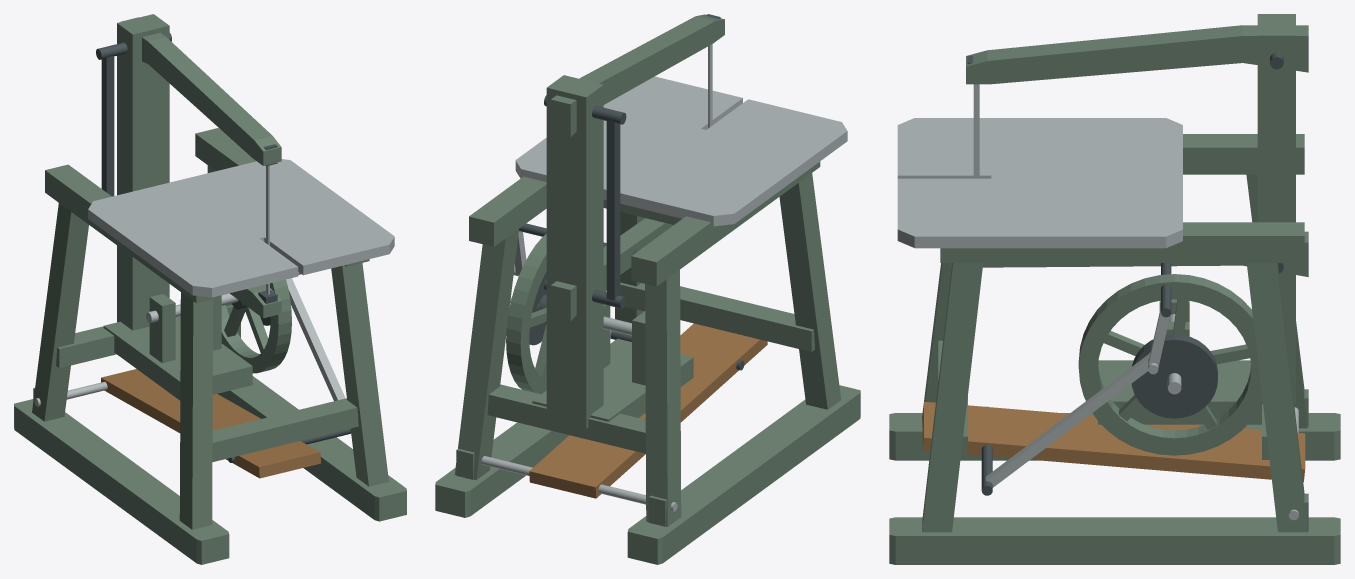
3 renders of one model, left to right at view 1: azimuth 30°, elevation 25°; view 2: azimuth 150°, elevation 25°; view 3: azimuth 270°, elevation 25°, orthographic. The views are drawn at different scales.
Parts seen in each view (by area): view 1: WholeFrontSlottedWorkTable, WholeRearArmBearingStandard, LeftWholeGroundSkid, LeftFrontWholeSplayedLeg, RightFrontWholeSplayedLeg, LeftRearWholeSplayedLeg, WholeLongInclinedFootTreadle, UpperWholeLongTaperedSawArm, RightWholeGroundSkid, FrontWholeLowCrossTie, WholeLowCentralDriveBed, LeftWholeUpperSideRail (+8 smaller); view 2: WholeFrontSlottedWorkTable, WholeRearArmBearingStandard, LeftWholeGroundSkid, WholeLongInclinedFootTreadle, LeftRearWholeSplayedLeg, LeftFrontWholeSplayedLeg, RightRearWholeSplayedLeg, UpperWholeLongTaperedSawArm, FrontWholeLowCrossTie, RightWholeGroundSkid, LeftWholeUpperSideRail, RearWholeLowCrossTie (+11 smaller); view 3: WholeFrontSlottedWorkTable, RightWholeGroundSkid, WholeLongInclinedFootTreadle, UpperWholeLongTaperedSawArm, WholeOpenFlywheelRim, WholeRearArmBearingStandard, RightWholeUpperSideRail, RightFrontWholeSplayedLeg, RightRearWholeSplayedLeg, WholeSideCrankDisk, LeftWholeGroundSkid, LeftWholeUpperSideRail (+7 smaller).
Part boxes in pixels (bbox=[...]): WholeFrontSlottedWorkTable: bbox=[88, 159, 394, 297]; WholeRearArmBearingStandard: bbox=[117, 14, 169, 330]; LeftWholeGroundSkid: bbox=[14, 399, 229, 564]; LeftFrontWholeSplayedLeg: bbox=[179, 292, 213, 529]; RightFrontWholeSplayedLeg: bbox=[331, 263, 388, 486]; LeftRearWholeSplayedLeg: bbox=[32, 203, 88, 421]; WholeLongInclinedFootTreadle: bbox=[101, 369, 320, 478]; UpperWholeLongTaperedSawArm: bbox=[121, 17, 281, 165]; RightWholeGroundSkid: bbox=[217, 376, 406, 521]; FrontWholeLowCrossTie: bbox=[212, 398, 358, 462]; WholeLowCentralDriveBed: bbox=[103, 316, 252, 400]; LeftWholeUpperSideRail: bbox=[45, 164, 219, 303]; WholeFrontSlottedWorkTable: bbox=[515, 76, 847, 226]; WholeRearArmBearingStandard: bbox=[546, 75, 603, 428]; LeftWholeGroundSkid: bbox=[627, 385, 860, 564]; WholeLongInclinedFootTreadle: bbox=[529, 323, 767, 498]; LeftRearWholeSplayedLeg: bbox=[645, 270, 681, 526]; LeftFrontWholeSplayedLeg: bbox=[779, 173, 841, 409]; RightRearWholeSplayedLeg: bbox=[454, 229, 518, 480]; UpperWholeLongTaperedSawArm: bbox=[551, 14, 724, 137]; FrontWholeLowCrossTie: bbox=[620, 282, 814, 351]; RightWholeGroundSkid: bbox=[435, 422, 568, 517]; LeftWholeUpperSideRail: bbox=[631, 161, 820, 286]; RearWholeLowCrossTie: bbox=[487, 384, 645, 453]; WholeFrontSlottedWorkTable: bbox=[897, 118, 1182, 248]; RightWholeGroundSkid: bbox=[889, 517, 1340, 564]; WholeLongInclinedFootTreadle: bbox=[922, 401, 1305, 482]; UpperWholeLongTaperedSawArm: bbox=[966, 25, 1308, 84]; WholeOpenFlywheelRim: bbox=[1078, 274, 1262, 455]; WholeRearArmBearingStandard: bbox=[1257, 14, 1295, 404]; RightWholeUpperSideRail: bbox=[940, 222, 1304, 262]; RightFrontWholeSplayedLeg: bbox=[922, 263, 983, 532]; RightRearWholeSplayedLeg: bbox=[1246, 263, 1307, 532]; WholeSideCrankDisk: bbox=[1131, 334, 1217, 418]; LeftWholeGroundSkid: bbox=[889, 413, 1340, 460]; LeftWholeUpperSideRail: bbox=[1183, 134, 1304, 174].
Size of the model in its own units: 0.693 by 1.24 by 1.06.
